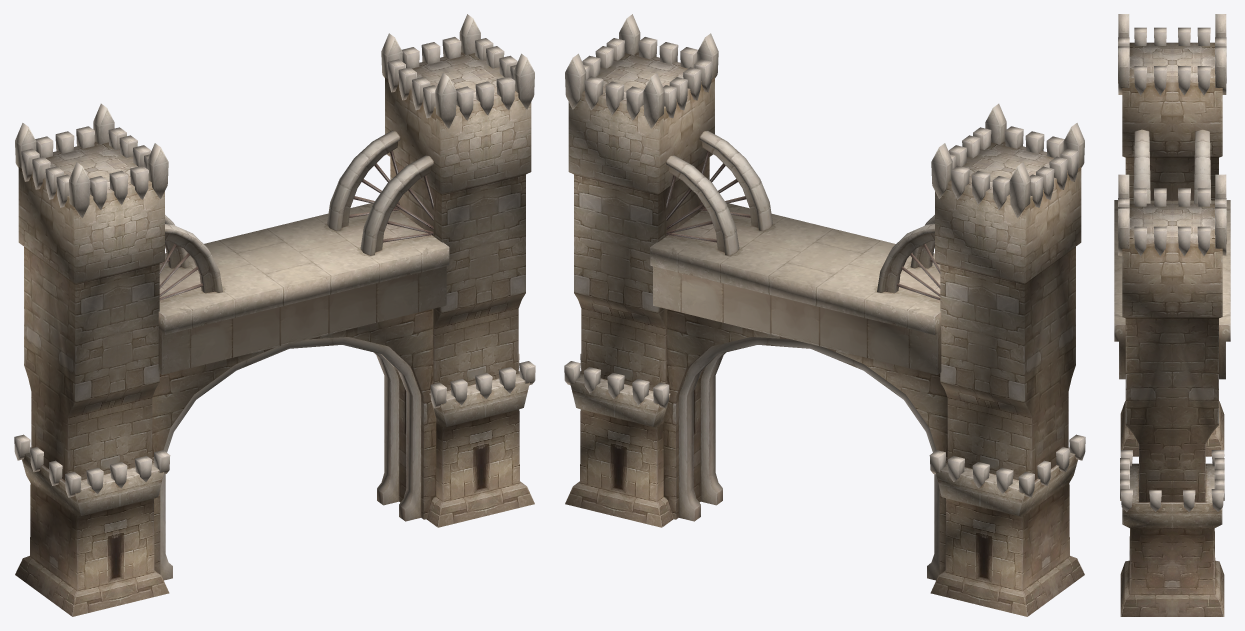
File: DM_damen_01.FBX
The picture shows the model from 3 angles, left to right: view 1: azimuth 30°, elevation 25°; view 2: azimuth 150°, elevation 25°; view 3: azimuth 270°, elevation 25°; orthographic projection. The views are drawn at different scales.
Visible parts, largest first — view 1: DM_damen_01; view 2: DM_damen_01; view 3: DM_damen_01.
Boxes of the visible parts, x1,y1,x2,y2 form: DM_damen_01: [14, 14, 535, 616]; DM_damen_01: [564, 14, 1085, 616]; DM_damen_01: [1114, 14, 1230, 616].
Size of the model in its own units: 2374 by 2193 by 571.
